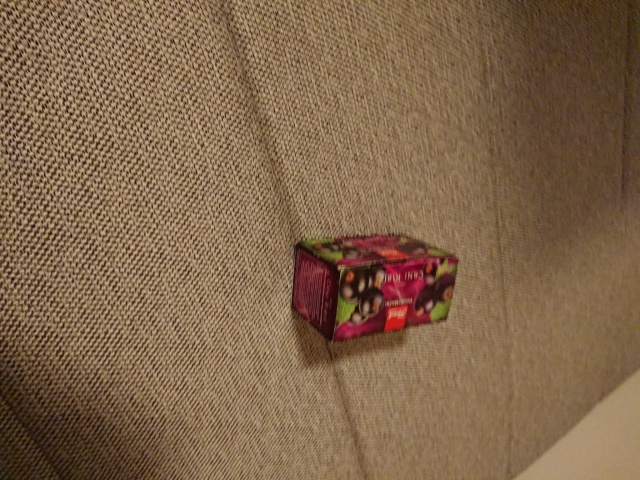Franck Black Currant Tea 60g: (288, 231, 462, 346)
